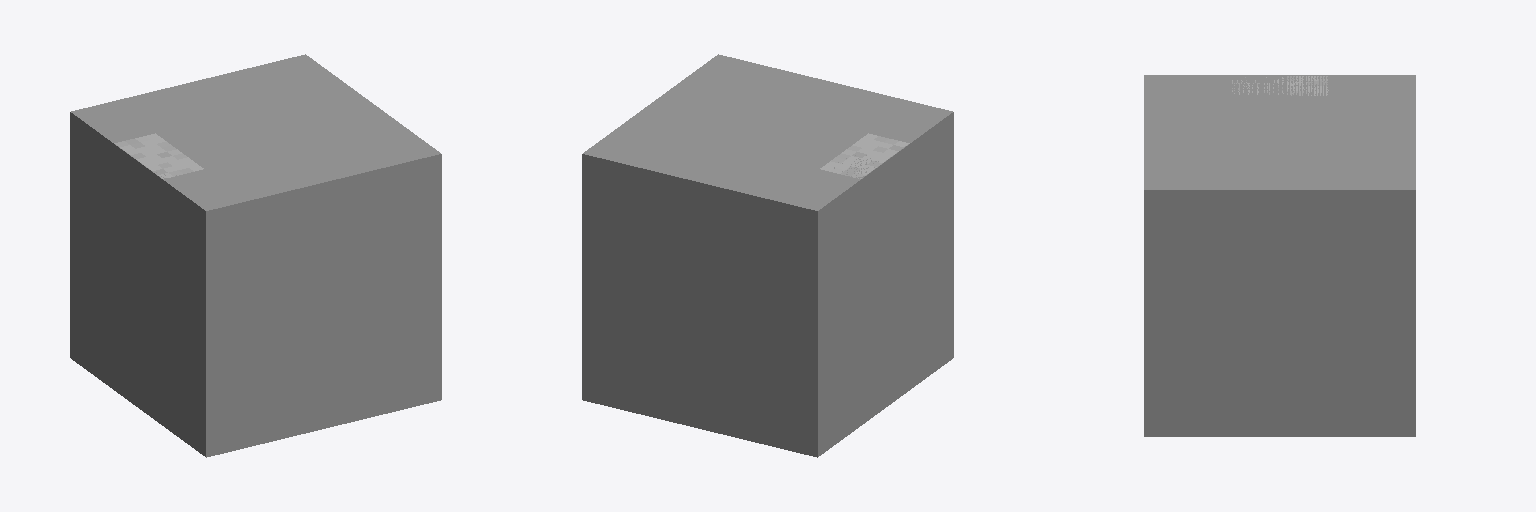
3 views of the same model, side by side, from view 1: azimuth 30°, elevation 25°; view 2: azimuth 150°, elevation 25°; view 3: azimuth 270°, elevation 25° (orthographic).
Parts seen in each view (by area): view 1: Minecraft_Block_Cube.004, Minecraft_2_Edge_Connectivity_Cube.002, Case; view 2: Minecraft_Block_Cube.004, Minecraft_2_Edge_Connectivity_Cube.002, Case; view 3: Minecraft_Block_Cube.004, Case.
Part boxes in pixels (bbox=[...]): Minecraft_Block_Cube.004: bbox=[71, 54, 441, 457]; Minecraft_2_Edge_Connectivity_Cube.002: bbox=[70, 112, 322, 456]; Case: bbox=[114, 133, 203, 178]; Minecraft_Block_Cube.004: bbox=[582, 54, 952, 457]; Minecraft_2_Edge_Connectivity_Cube.002: bbox=[703, 112, 953, 456]; Case: bbox=[820, 133, 909, 178]; Minecraft_Block_Cube.004: bbox=[1144, 75, 1415, 436]; Case: bbox=[1232, 76, 1328, 95].
Size of the model in its own units: 1 by 1 by 1.
Materials: 2 (1 with a texture image).